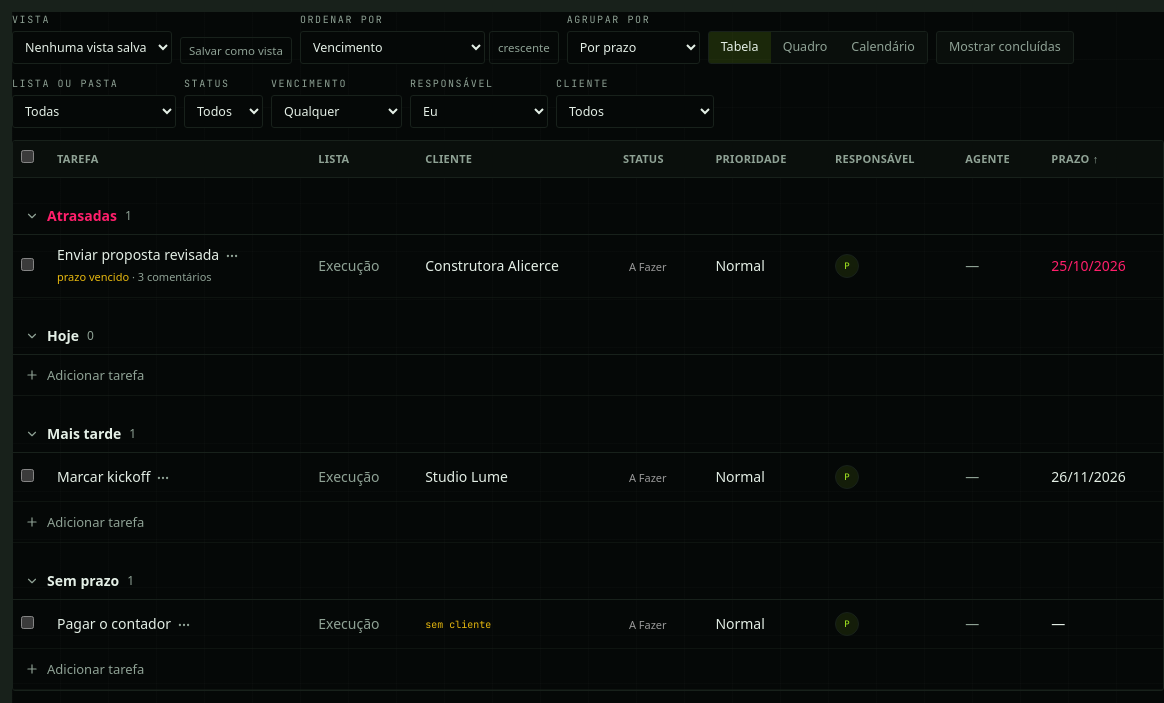
it: Layout 26/10: Minhas tarefas é a Lista do Trabalho › seleciona linhas, a barra do lote aparece e concluir grava cada uma com a versão lida
Check: the row with test id "caixa-tarefa-t-1" is shown, box [13,234,1163,298]
Step 1. Click the checkbox with test id "trabalho-selecionar-t-1" → point(28, 265), box [21,258,34,271]
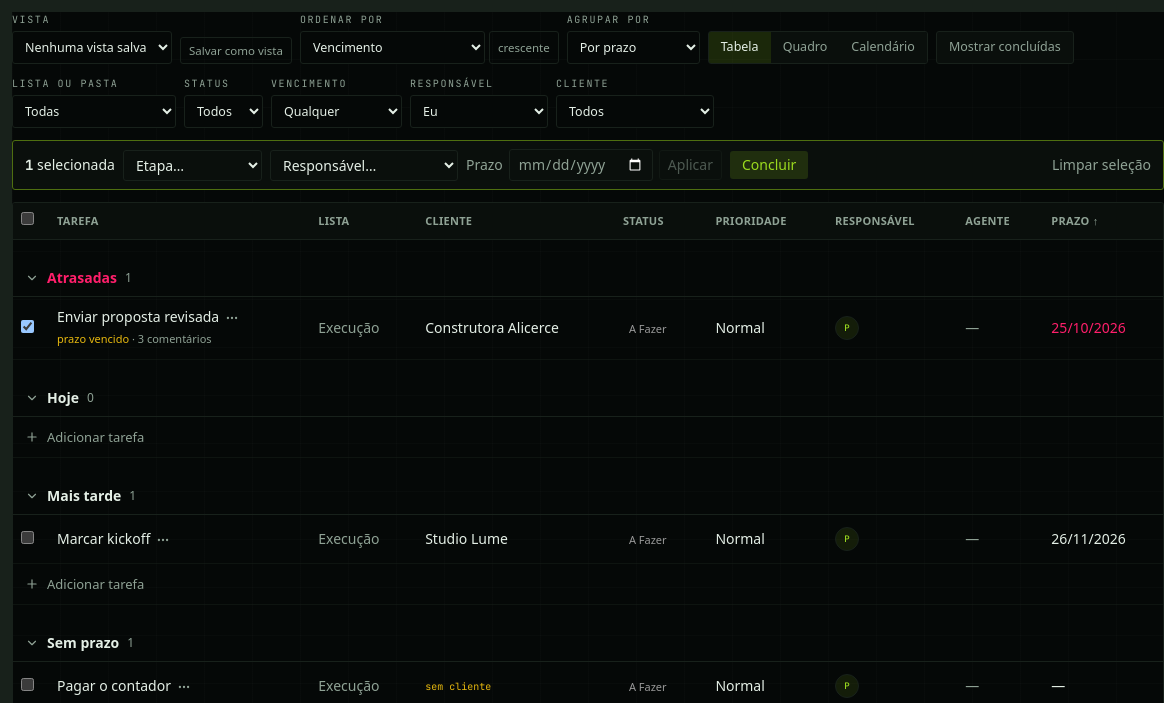
Step 2. Click the checkbox with test id "trabalho-selecionar-t-3" → point(28, 685), box [21,678,34,691]
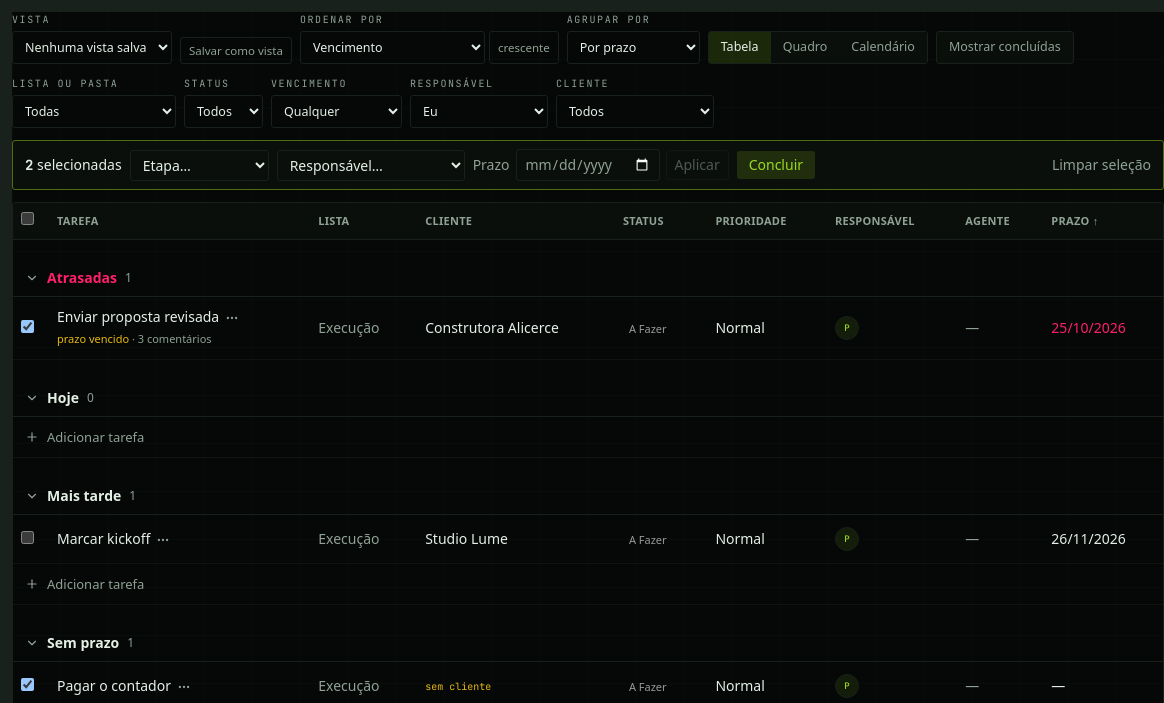
Check: the element with test id "trabalho-lote" shows "2 selecionadas", box [12,140,1163,190]
Step 3. Click the button with test id "trabalho-lote-concluir" → point(776, 165), box [737,151,815,179]
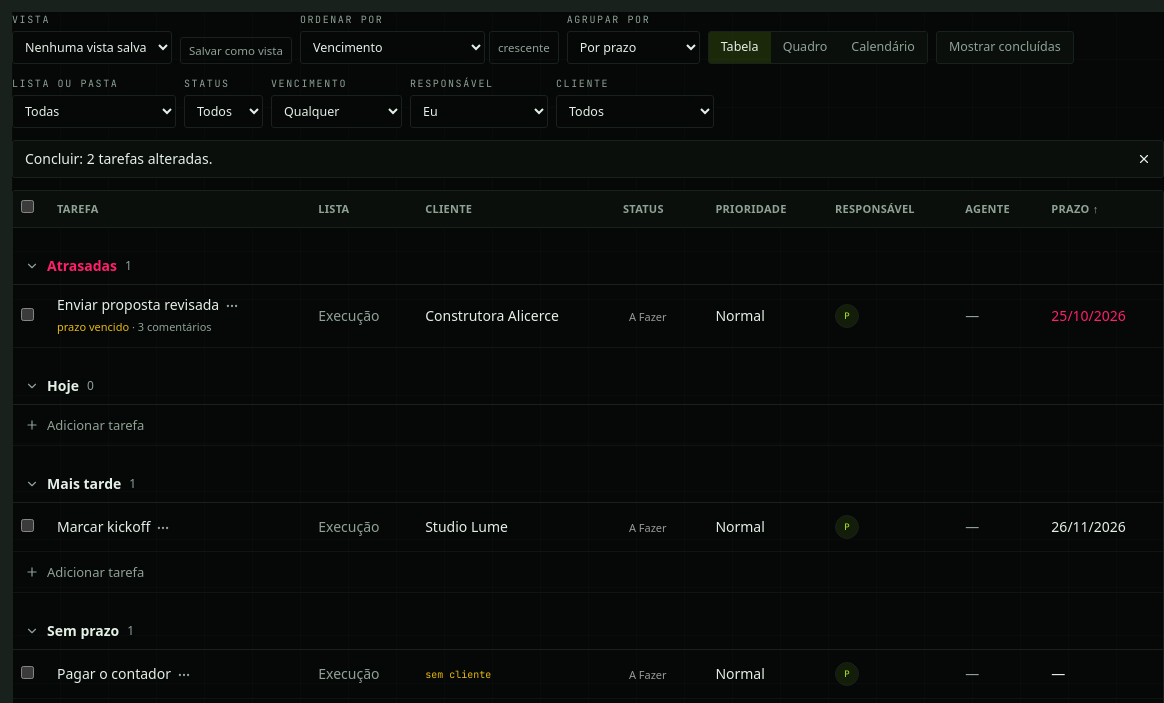
Check: the message with test id "caixa-lote-aviso" reads "Concluir: 2 tarefas alteradas.", box [25,149,212,168]
